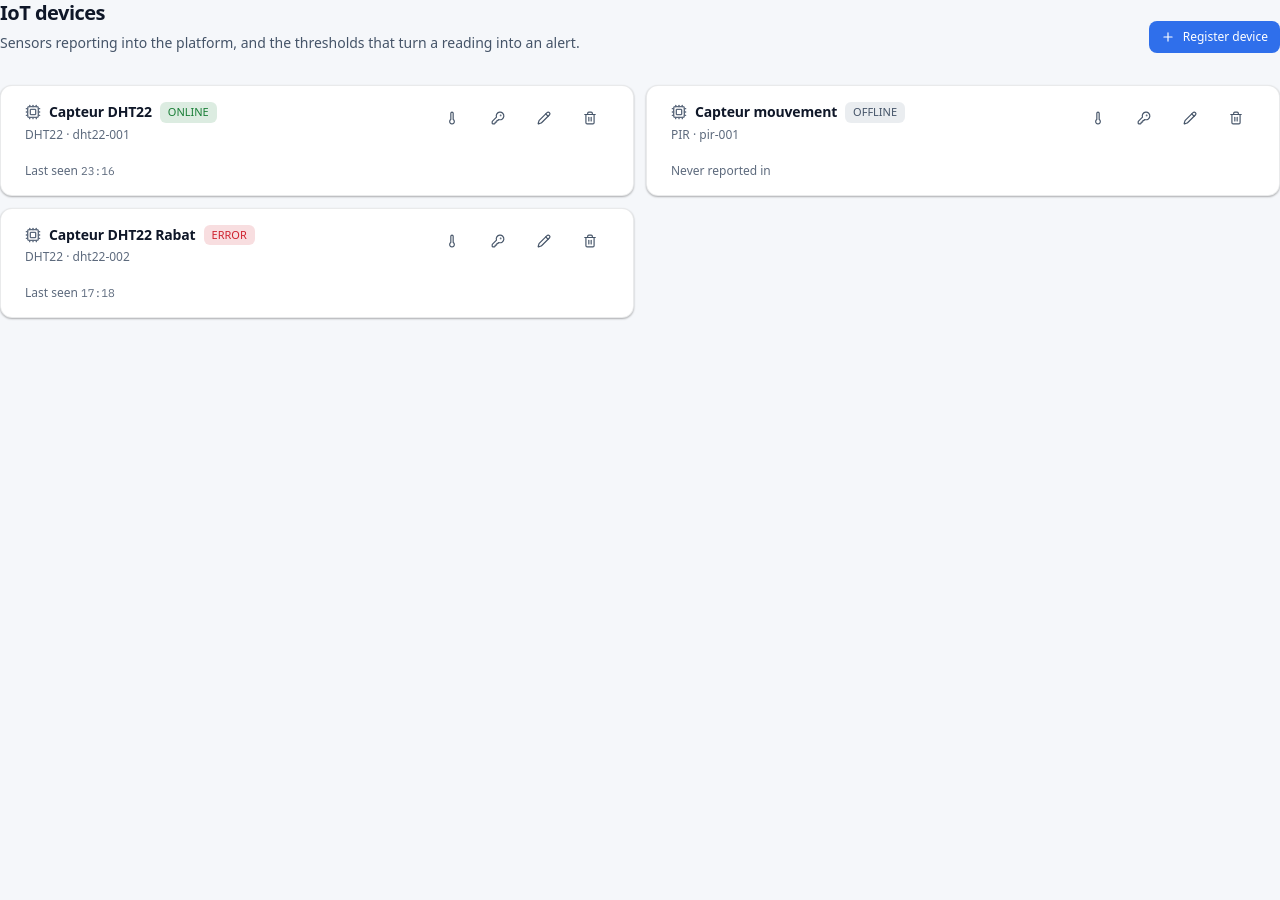
Devices › asks before rotating a key, and only then shows the new one
The image size is (1280, 900).
What coordinates should you click on to do the following:
click the button named "Rotate key for"
I would click on:
 (498, 118)
Its box is 479,102 -> 517,134.
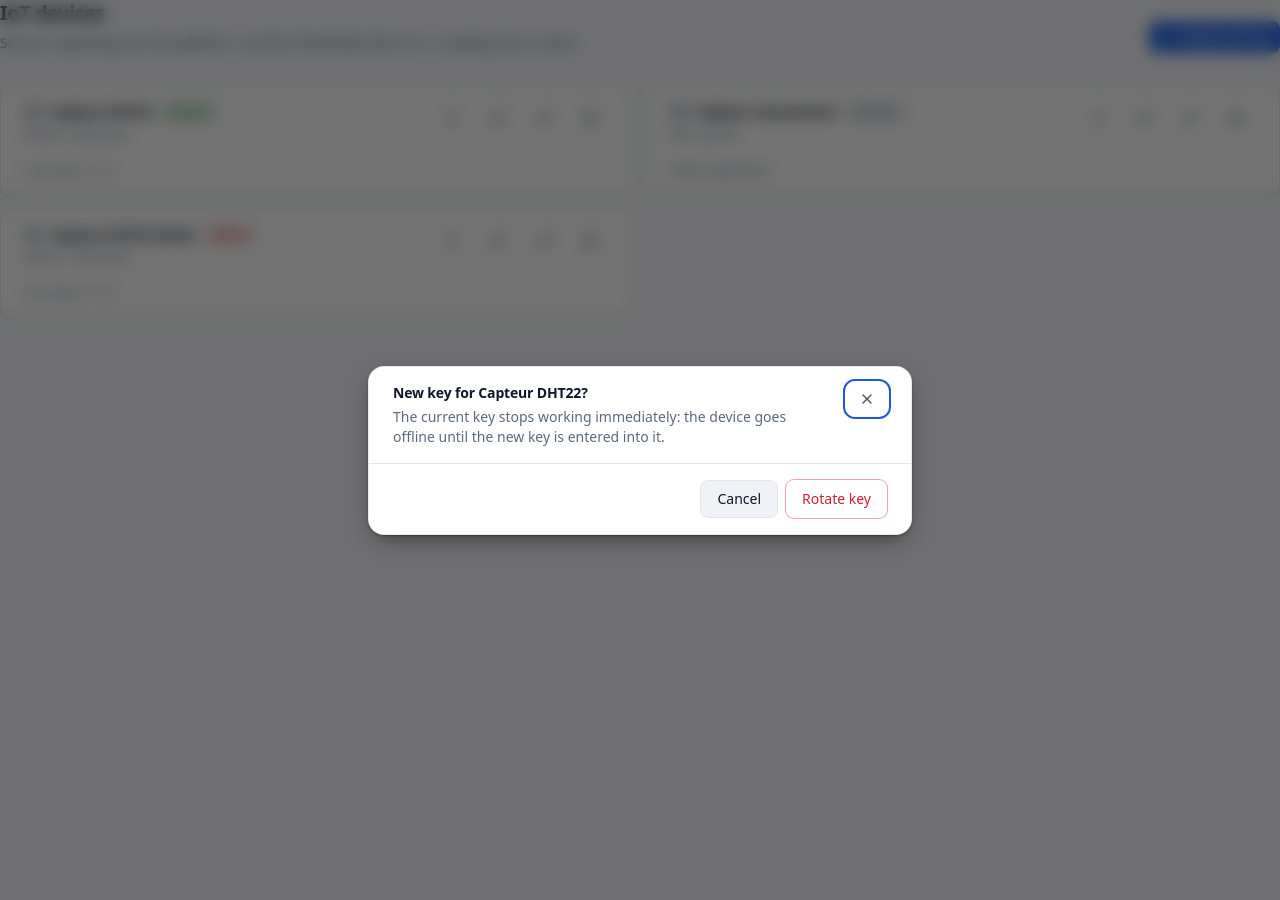
Expected: the text "stops working immediately" is shown, 393,406 -> 786,446
What coordinates should you click on to do the following:
click the button "Cancel"
I would click on:
 (739, 498)
Its box is 700,480 -> 778,518.
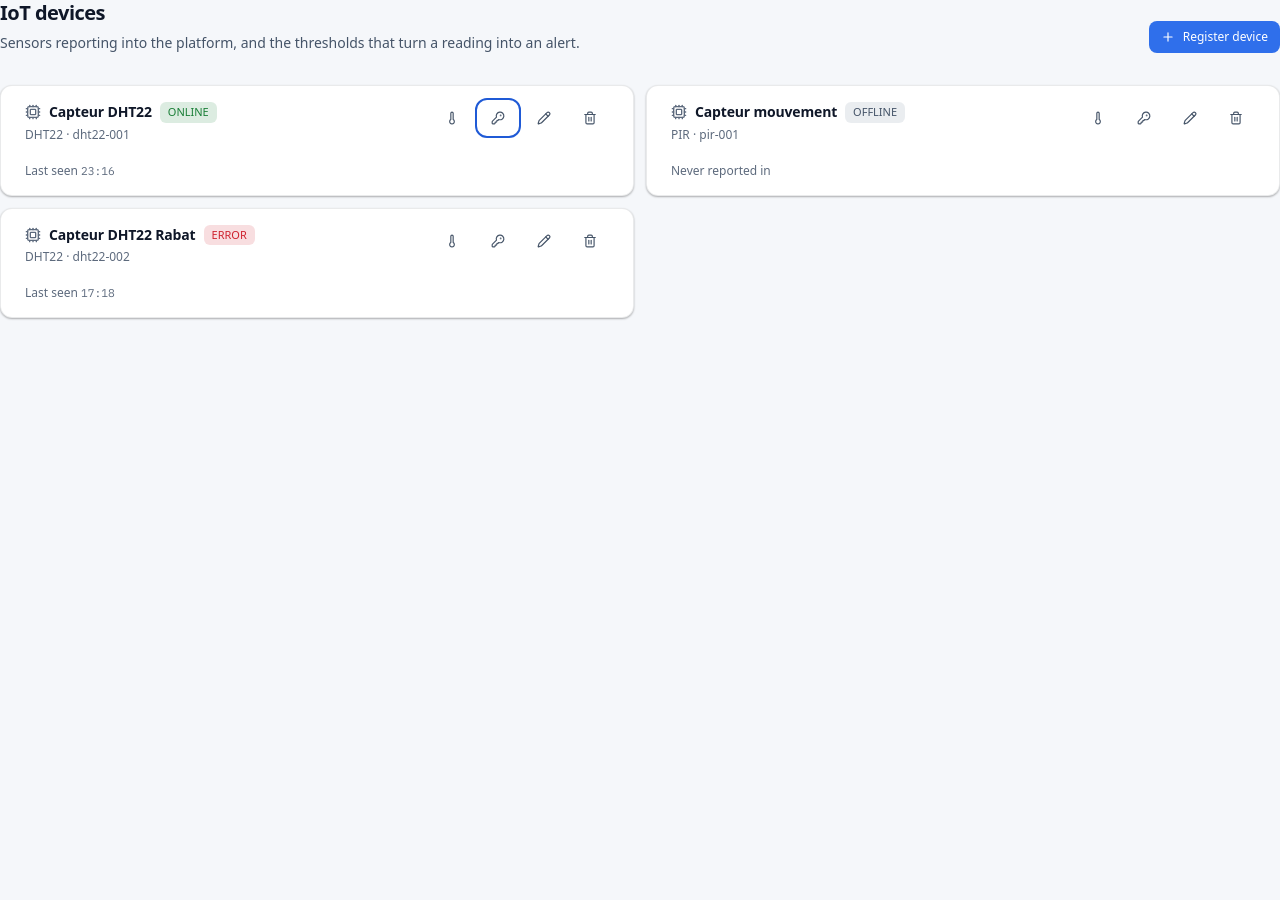
Expected: the dialog is gone
What coordinates should you click on to do the following:
click the button named "Rotate key for"
I would click on:
 (498, 118)
Its box is 479,102 -> 517,134.
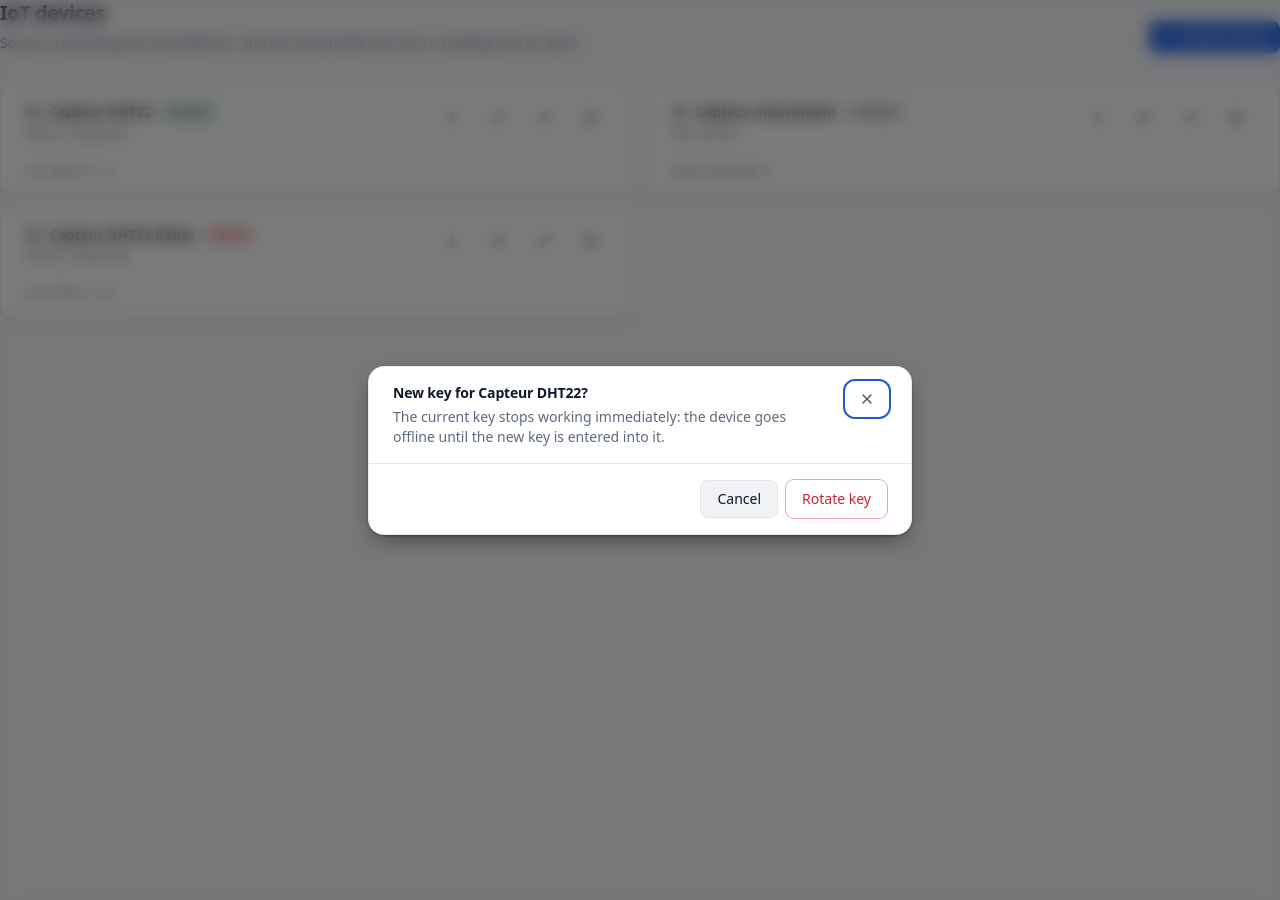
What coordinates should you click on to do the following:
click the button "Rotate key"
I would click on:
 (837, 498)
Its box is 786,480 -> 887,518.
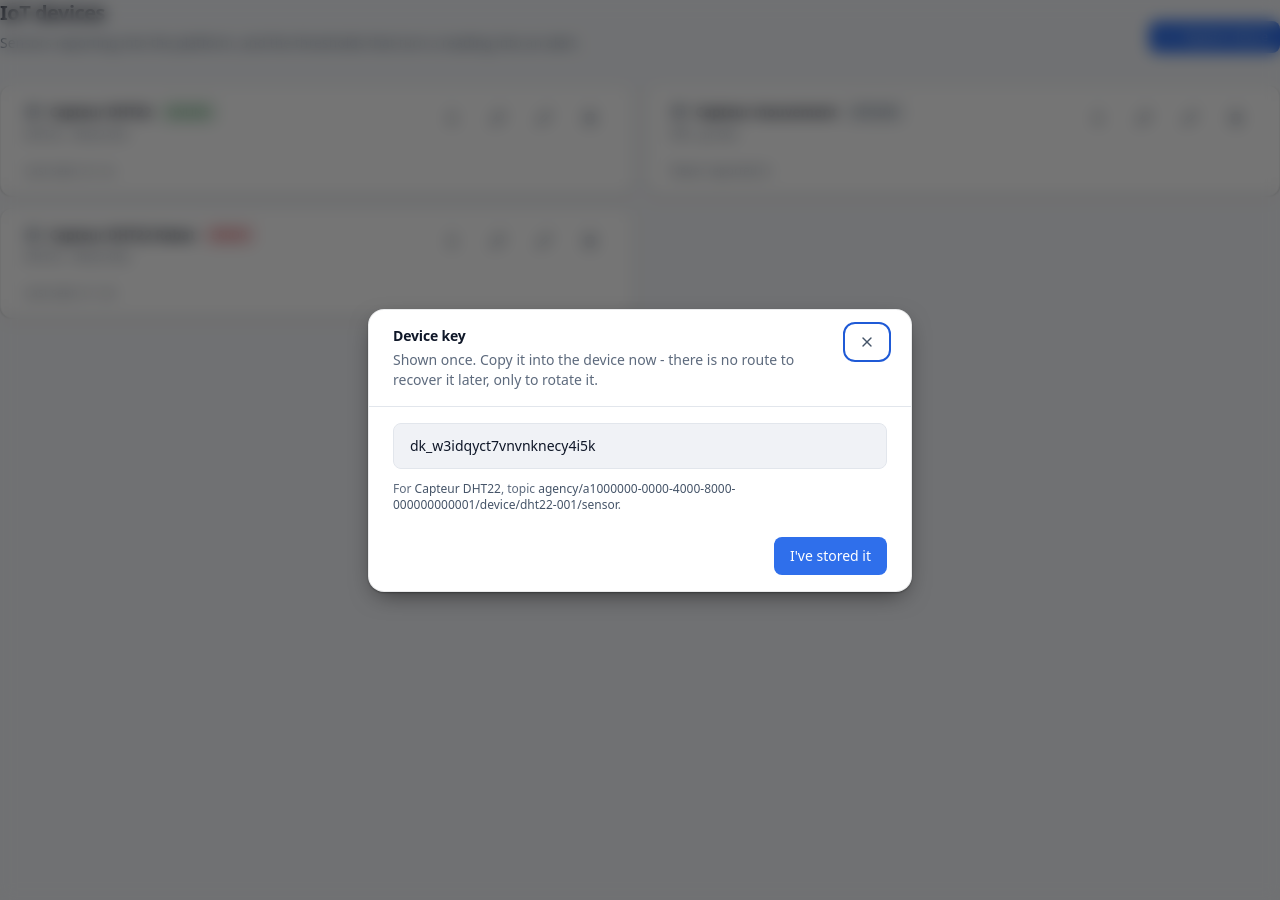
Expected: the text "Shown once" is shown, 393,350 -> 794,388
